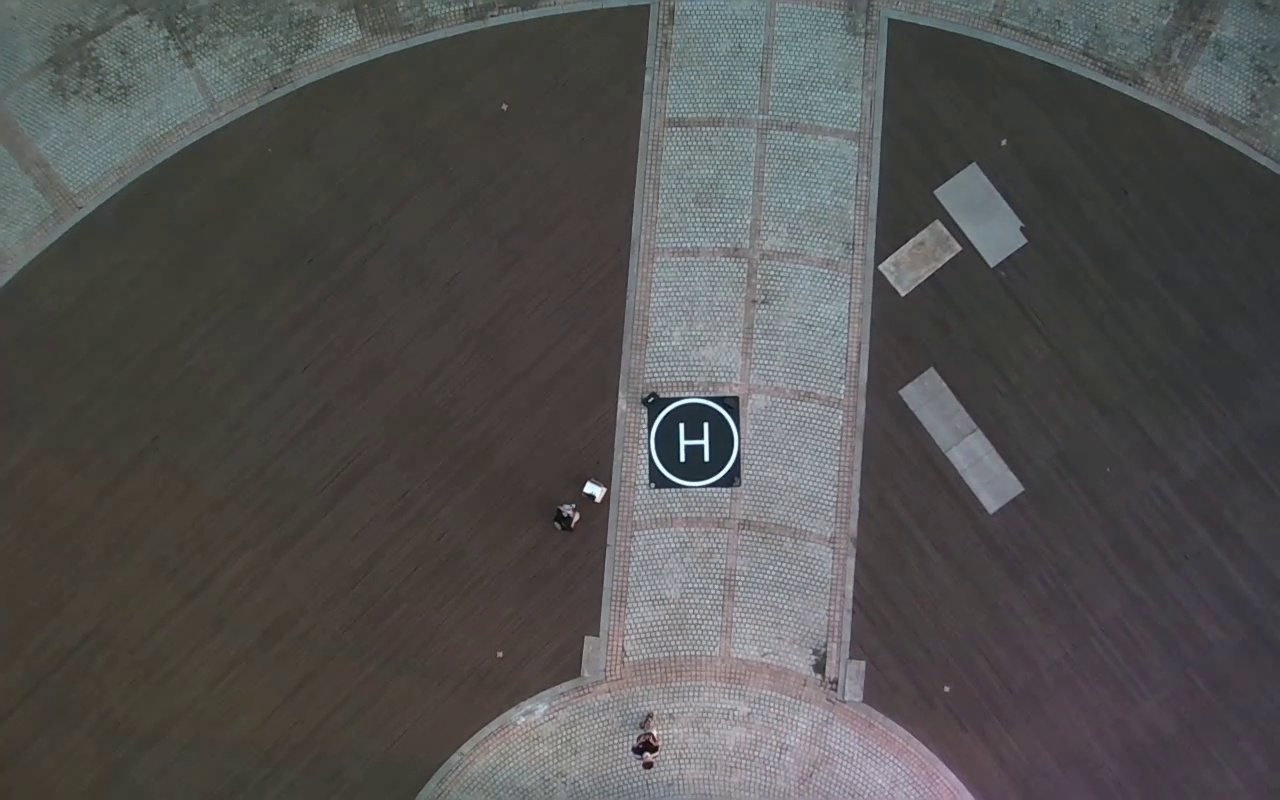H: (677, 419, 710, 464)
heliport: (650, 400, 740, 487)
